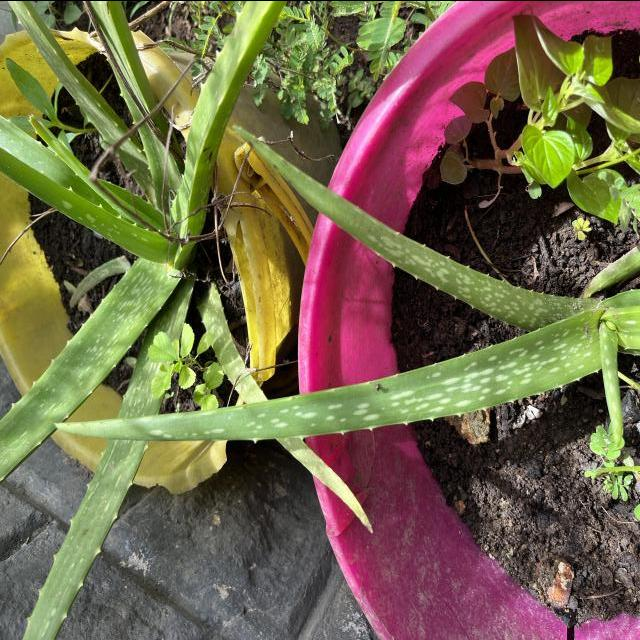Aloe vera: (51, 310, 614, 449)
